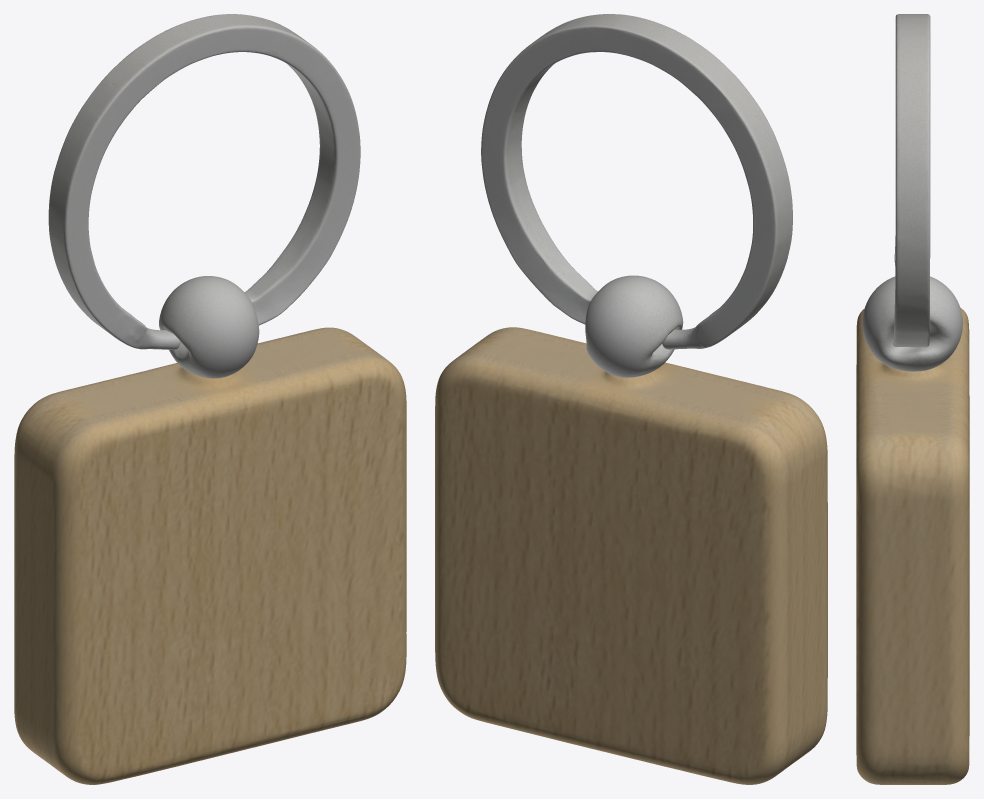
File: keychain.glb
3 renders of one model, left to right at view 1: azimuth 30°, elevation 25°; view 2: azimuth 150°, elevation 25°; view 3: azimuth 270°, elevation 25°, orthographic. The views are drawn at different scales.
Bounding box in the file's own units: 0.9772 × 1.9 × 0.2834.
1 material, 1 textured.
